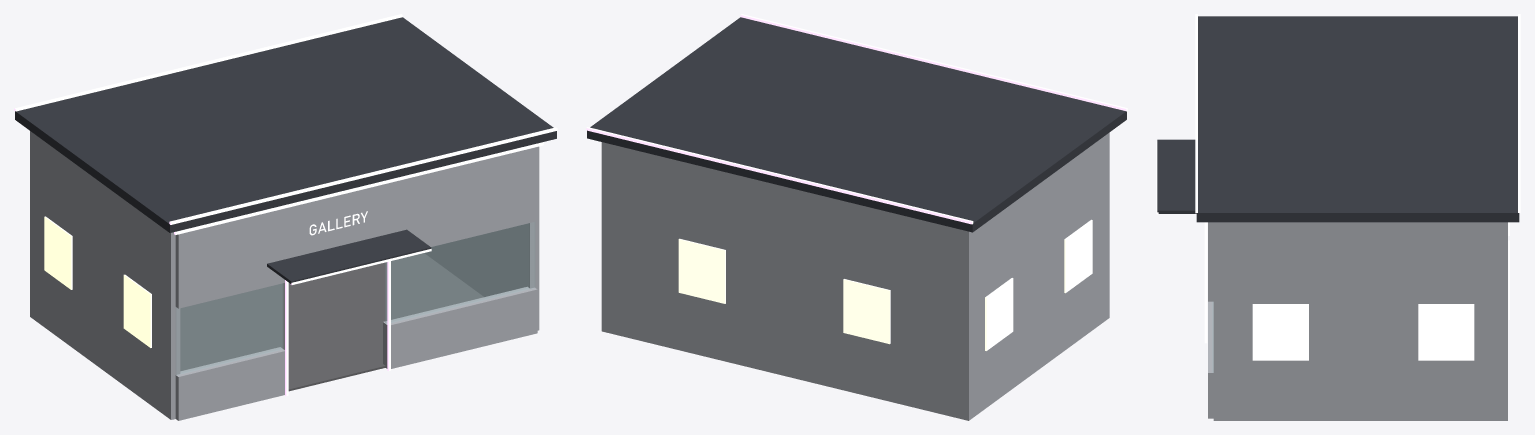
File: art_wall.glb
3 views of the same model, side by side, from view 1: azimuth 30°, elevation 25°; view 2: azimuth 150°, elevation 25°; view 3: azimuth 270°, elevation 25° (orthographic). The views are drawn at different scales.
Visible parts, largest first — view 1: Plaque, Roof, Wall, Brush jar, Awning, Side window, Paint.003, Roof edge, Roof edge.001; view 2: Plaque, Roof, Side window, Roof edge.001, Roof edge; view 3: Roof, Plaque, Side window, Awning, Paint.003, Roof edge, Roof edge.001.
Part boxes in pixels (box(x1,y1,x2,y2)): Plaque: box(30, 131, 539, 420); Roof: box(15, 17, 556, 232); Wall: box(180, 253, 483, 391); Brush jar: box(176, 222, 534, 374); Awning: box(267, 229, 431, 283); Side window: box(44, 216, 151, 347); Paint.003: box(174, 142, 543, 396); Roof edge: box(169, 127, 557, 224); Roof edge.001: box(14, 14, 402, 111); Plaque: box(601, 132, 1109, 420); Roof: box(587, 17, 1126, 232); Side window: box(678, 219, 1092, 350); Roof edge.001: box(586, 127, 973, 224); Roof edge: box(740, 14, 1127, 111); Roof: box(1196, 16, 1519, 222); Plaque: box(1208, 222, 1507, 420); Side window: box(1252, 222, 1509, 360); Awning: box(1157, 139, 1196, 213); Paint.003: box(1156, 141, 1207, 343); Roof edge: box(1195, 14, 1197, 213); Roof edge.001: box(1518, 14, 1520, 213).
Bounding box in the file's own units: 8.3 × 4.23 × 6.5.
